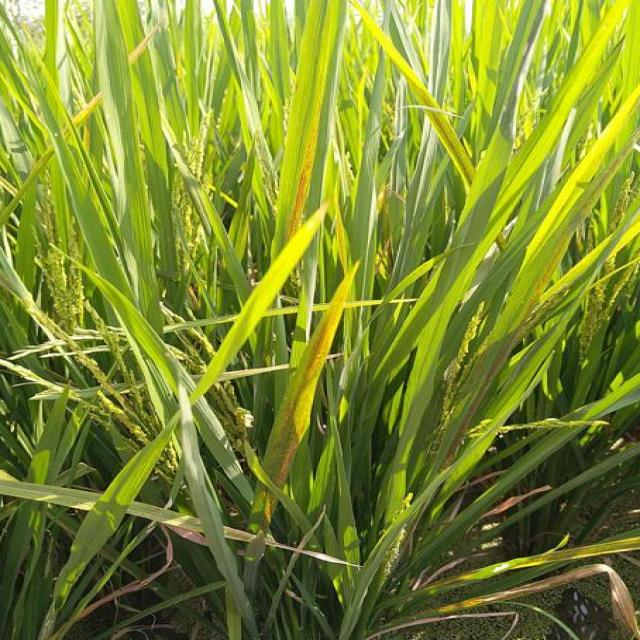Leaf Streak: (440, 138, 633, 472), (259, 265, 358, 491), (289, 147, 313, 234), (251, 483, 278, 540)
